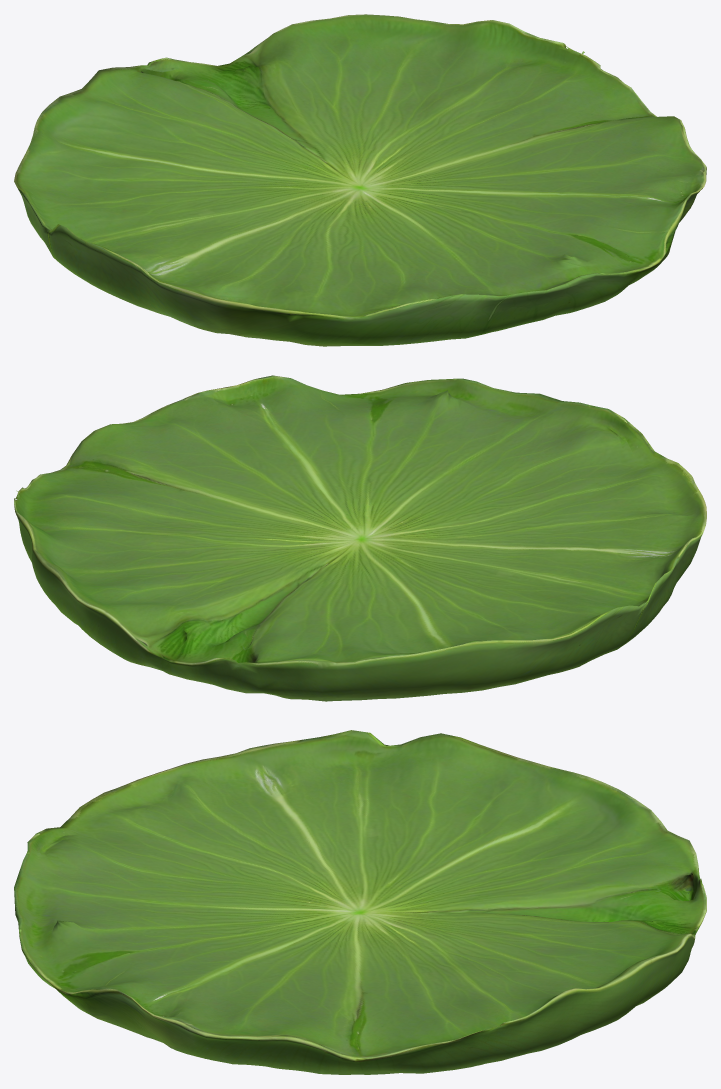
The model's file is leaf.glb.
3 renders of one model, top to bottom at view 1: azimuth 30°, elevation 25°; view 2: azimuth 150°, elevation 25°; view 3: azimuth 270°, elevation 25°, orthographic.
Size of the model in its own units: 1.99 by 0.3936 by 1.98.
Materials: 1 (1 with a texture image).
